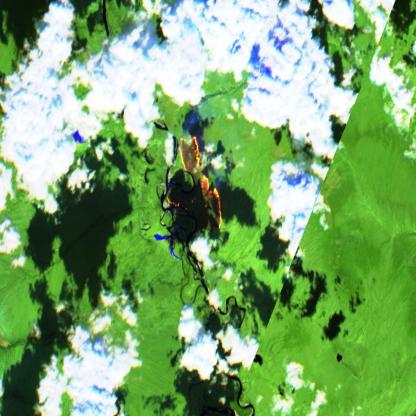fire: (166, 135, 224, 232)
